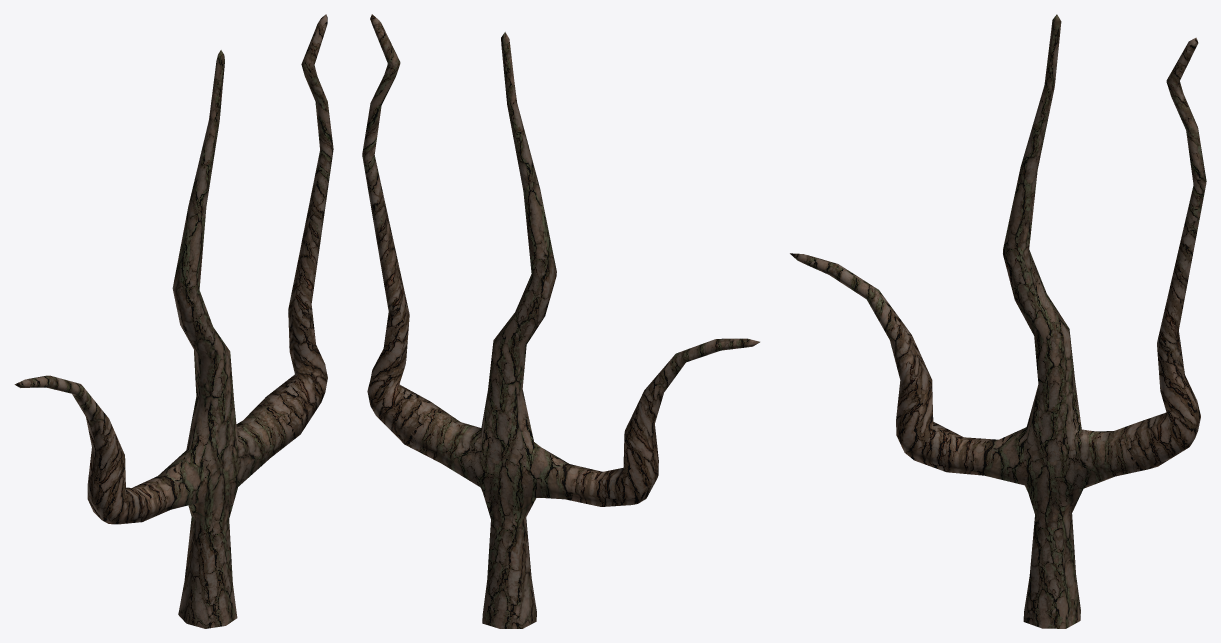
Rendered from Spooky_Tree_Art.glb.
3 views of the same model, side by side, from view 1: azimuth 30°, elevation 25°; view 2: azimuth 150°, elevation 25°; view 3: azimuth 330°, elevation 25° (orthographic). The views are drawn at different scales.
Visible parts, largest first — view 1: Spooky_Tree_Art; view 2: Spooky_Tree_Art; view 3: Spooky_Tree_Art.
Part boxes in pixels (x1,y1,x2,y2): Spooky_Tree_Art: (14,14,333,628); Spooky_Tree_Art: (362,14,759,628); Spooky_Tree_Art: (790,14,1206,628).
Size of the model in its own units: 3.88 by 5.97 by 0.8868.
1 material, 1 textured.
